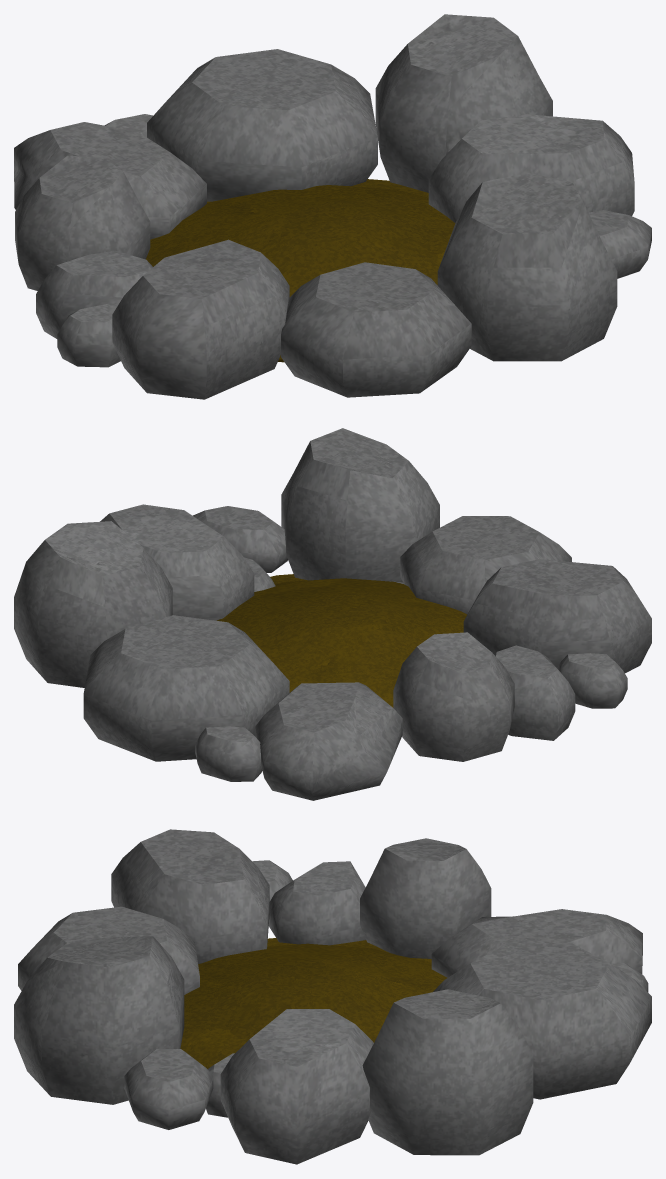
The model's file is campfire.fbx.
3 views of the same model, one above another, from view 1: azimuth 30°, elevation 25°; view 2: azimuth 150°, elevation 25°; view 3: azimuth 270°, elevation 25° (orthographic). The views are drawn at different scales.
Parts seen in each view (by area): view 1: Cylinder031; view 2: Cylinder031; view 3: Cylinder031.
Boxes of the visible parts, x1,y1,x2,y2 form: Cylinder031: (14, 14, 651, 399); Cylinder031: (14, 428, 651, 800); Cylinder031: (14, 829, 651, 1164).
Bounding box in the file's own units: 102 × 24.17 × 100.
